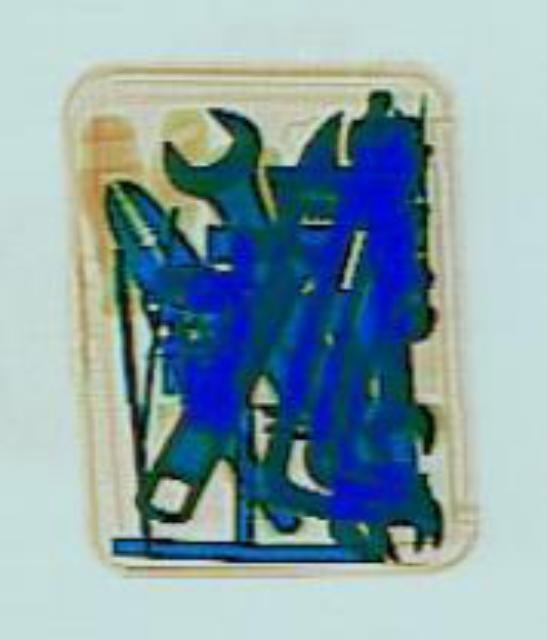Pliers: (57, 140, 368, 540)
Wrench: (113, 97, 398, 537), (143, 86, 382, 448), (273, 353, 448, 582)
